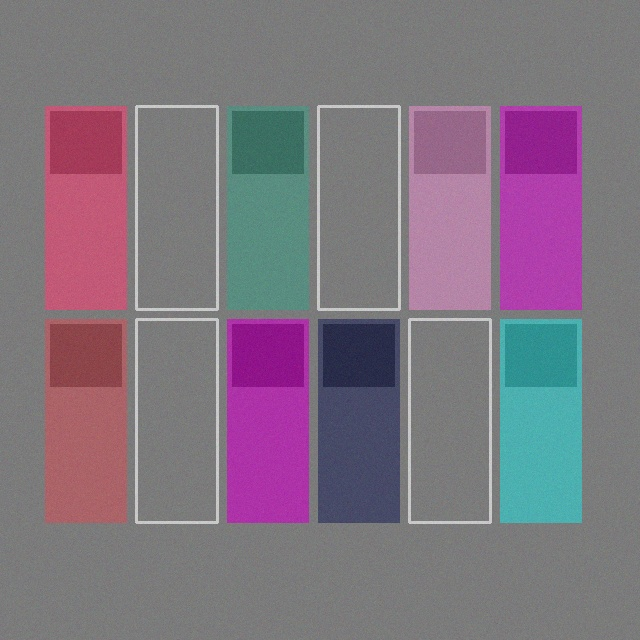space-empty: (136, 106, 217, 309), (318, 106, 399, 309), (136, 319, 217, 522), (409, 319, 490, 522)
space-occupied: (45, 106, 126, 309), (227, 106, 308, 309), (409, 106, 490, 309), (500, 106, 581, 309), (45, 319, 126, 522), (227, 319, 308, 522), (318, 319, 399, 522), (500, 319, 581, 522)
